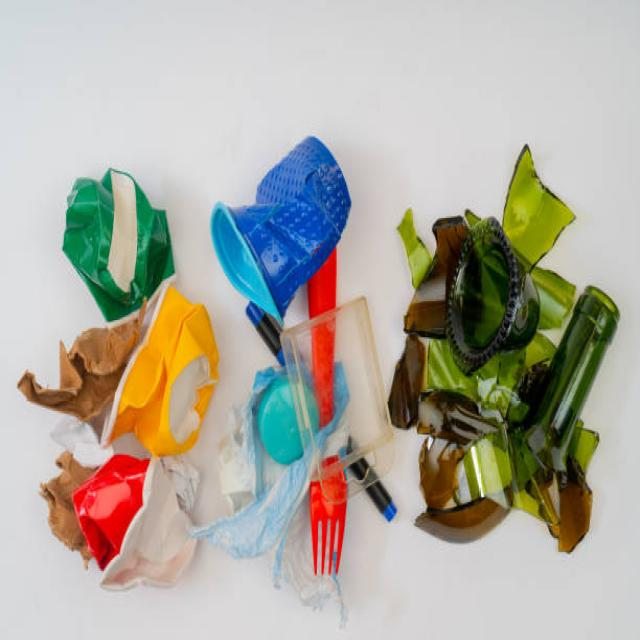glass: (398, 174, 600, 557)
plastic: (60, 136, 369, 594)
